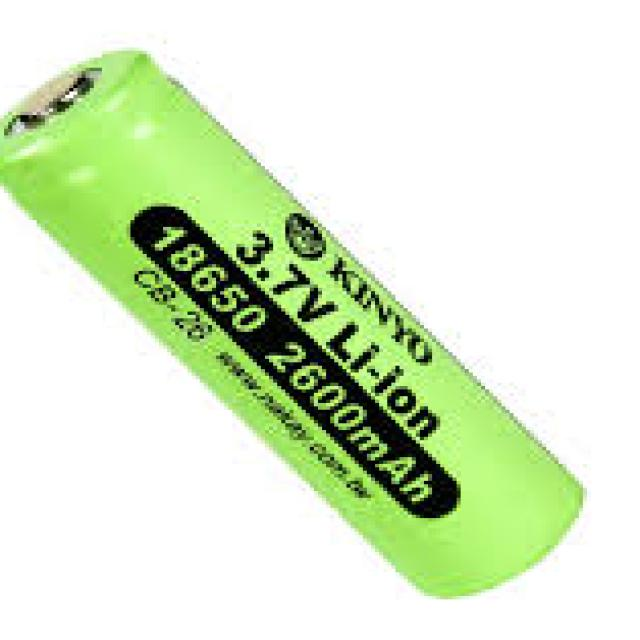organic: (0, 35, 588, 599)
